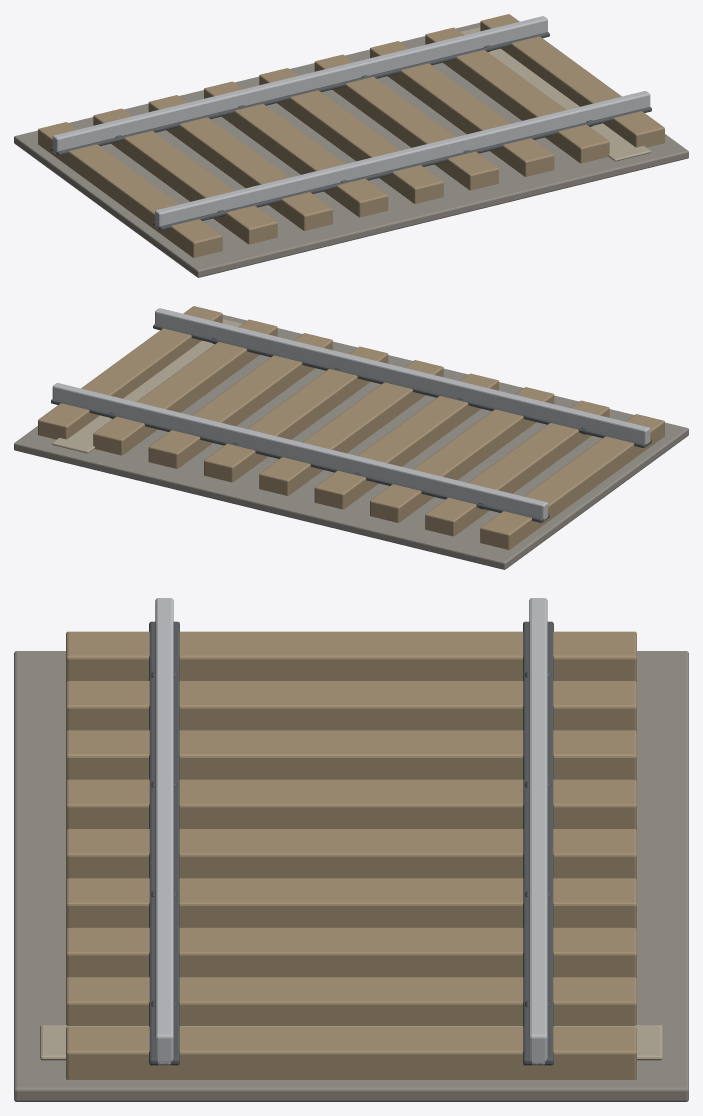
Rendered from rail_track_4.fbx.
3 renders of one model, top to bottom at view 1: azimuth 30°, elevation 25°; view 2: azimuth 150°, elevation 25°; view 3: azimuth 270°, elevation 25°, orthographic. The views are drawn at different scales.
Parts seen in each view (by area): view 1: rail_track_4; view 2: rail_track_4; view 3: rail_track_4.
Part boxes in pixels (bbox=[...]): rail_track_4: bbox=[14, 14, 688, 277]; rail_track_4: bbox=[14, 306, 688, 569]; rail_track_4: bbox=[14, 598, 688, 1101].
Size of the model in its own units: 4 by 0.285 by 2.6.
